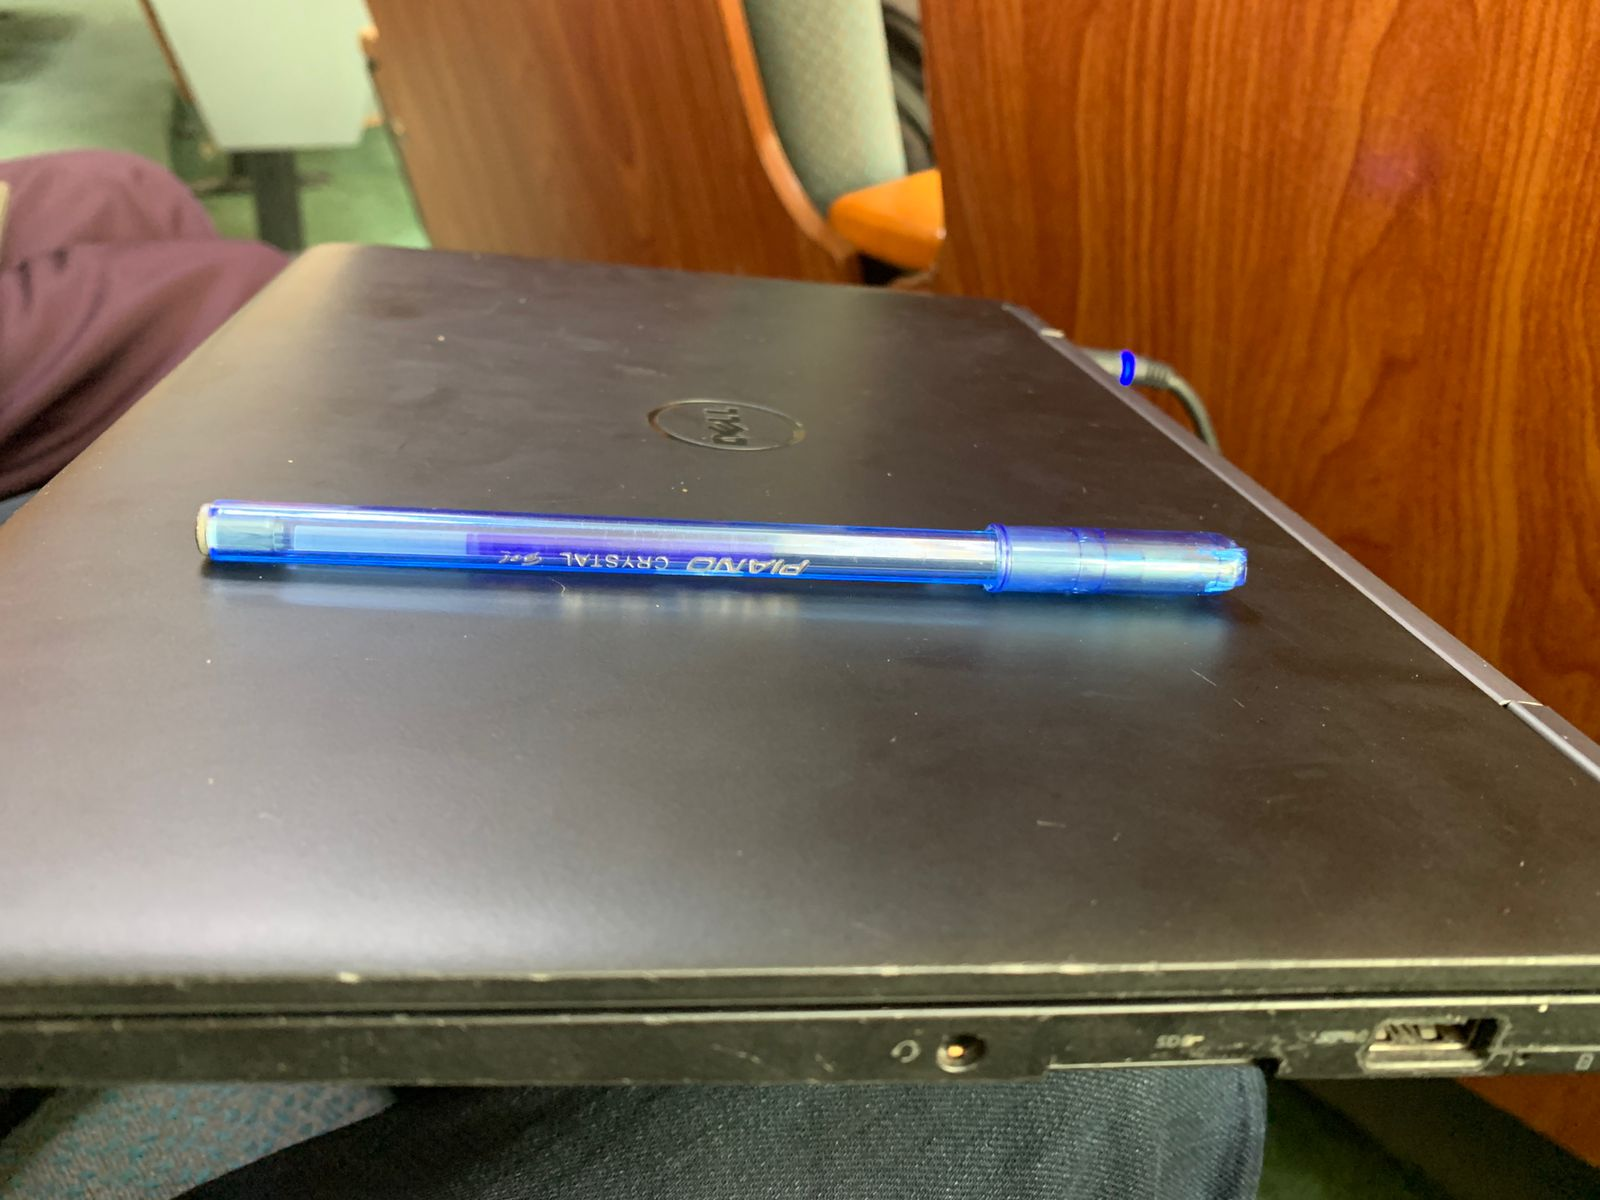pen: (108, 453, 1328, 672)
